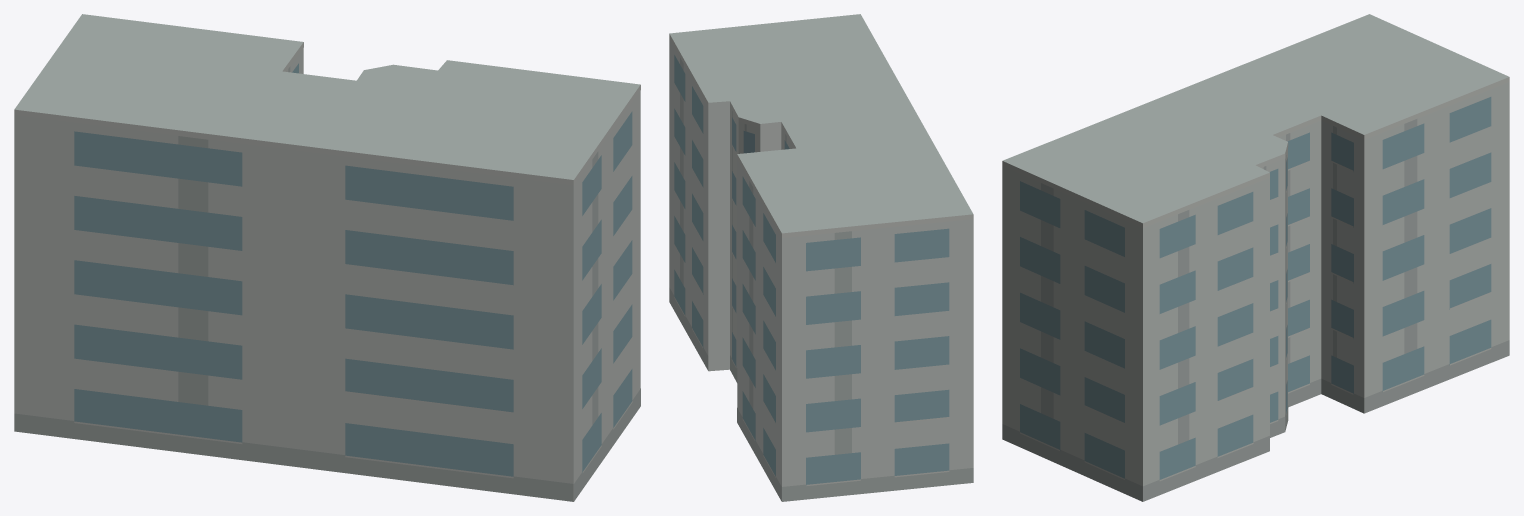
Rendered from survey-upis-32815281.glb.
3 views of the same model, side by side, from view 1: azimuth 30°, elevation 25°; view 2: azimuth 150°, elevation 25°; view 3: azimuth 270°, elevation 25° (orthographic). The views are drawn at different scales.
Parts seen in each view (by area): view 1: survey-upis-32815281.tmp; view 2: survey-upis-32815281.tmp; view 3: survey-upis-32815281.tmp.
Boxes of the visible parts, <box> form: survey-upis-32815281.tmp: <box>14,14,640,501</box>; survey-upis-32815281.tmp: <box>669,14,973,501</box>; survey-upis-32815281.tmp: <box>1002,14,1509,501</box>.
Size of the model in its own units: 22.08 by 13.7 by 22.62.
